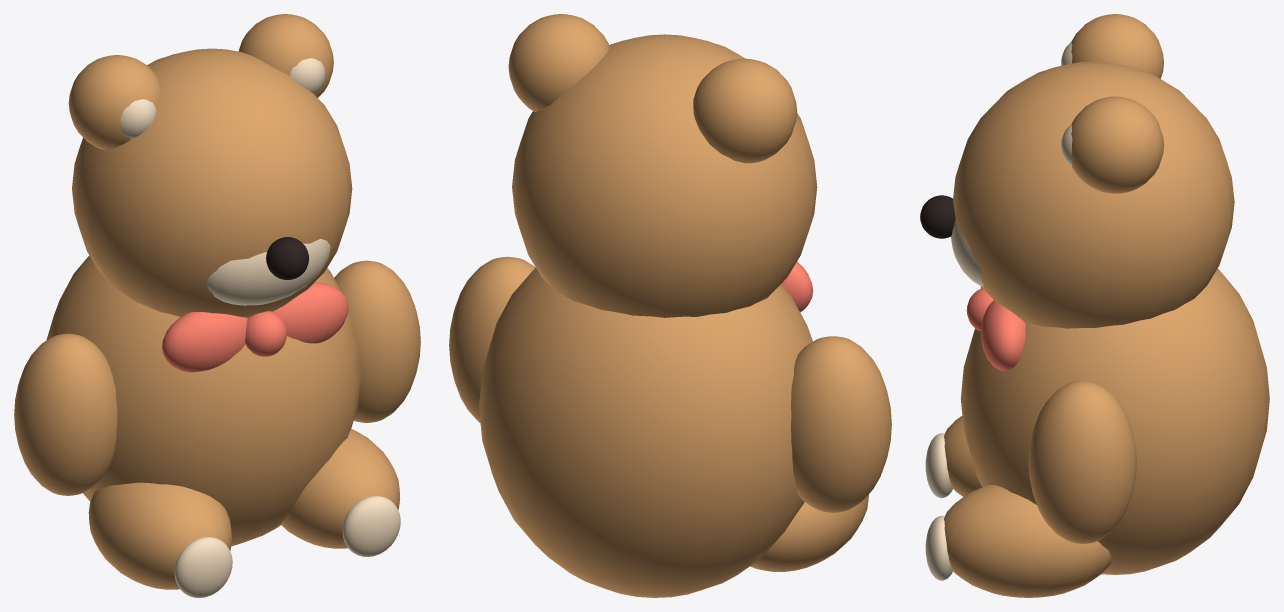
File: prop-bear.glb
3 views of the same model, side by side, from view 1: azimuth 30°, elevation 25°; view 2: azimuth 150°, elevation 25°; view 3: azimuth 270°, elevation 25° (orthographic). The views are drawn at different scales.
Parts seen in each view (by area): view 1: Head, Body, Arm-1, Leg-1, Arm1, Leg1, Ear-1, BowL, Muzzle, Ear1, BowR, Paw1 (+5 smaller); view 2: Body, Head, Arm-1, Ear-1, Ear1, Arm1, Leg-1, BowL; view 3: Head, Body, Arm1, Leg1, Ear1, Ear-1, BowR, Leg-1, Nose, Paw1, Paw-1, Muzzle (+1 smaller).
Boxes of the visible parts, <box> form: Head: <box>72,48,352,317</box>; Body: <box>46,255,360,546</box>; Arm-1: <box>14,333,117,495</box>; Leg-1: <box>88,482,231,589</box>; Arm1: <box>334,260,420,422</box>; Leg1: <box>280,429,400,548</box>; Ear-1: <box>68,55,161,149</box>; BowL: <box>162,312,247,372</box>; Muzzle: <box>205,239,330,305</box>; Ear1: <box>238,14,333,97</box>; BowR: <box>272,282,348,343</box>; Paw1: <box>342,496,400,556</box>; Body: <box>479,267,812,597</box>; Head: <box>512,34,817,317</box>; Arm-1: <box>791,336,891,512</box>; Ear-1: <box>693,58,797,163</box>; Ear1: <box>508,14,609,111</box>; Arm1: <box>449,256,535,423</box>; Leg-1: <box>750,494,868,571</box>; BowL: <box>781,261,813,312</box>; Head: <box>953,61,1234,328</box>; Body: <box>960,268,1269,574</box>; Arm1: <box>1028,380,1136,543</box>; Leg1: <box>944,485,1111,597</box>; Ear1: <box>1071,96,1163,193</box>; Ear-1: <box>1071,14,1163,78</box>; BowR: <box>981,300,1025,370</box>; Leg-1: <box>944,416,982,496</box>; Nose: <box>920,195,955,238</box>; Paw1: <box>925,515,952,580</box>; Paw-1: <box>925,433,952,498</box>; Muzzle: <box>951,219,983,286</box>.
Bounding box in the file's own units: 0.42 × 0.51 × 0.3225.
